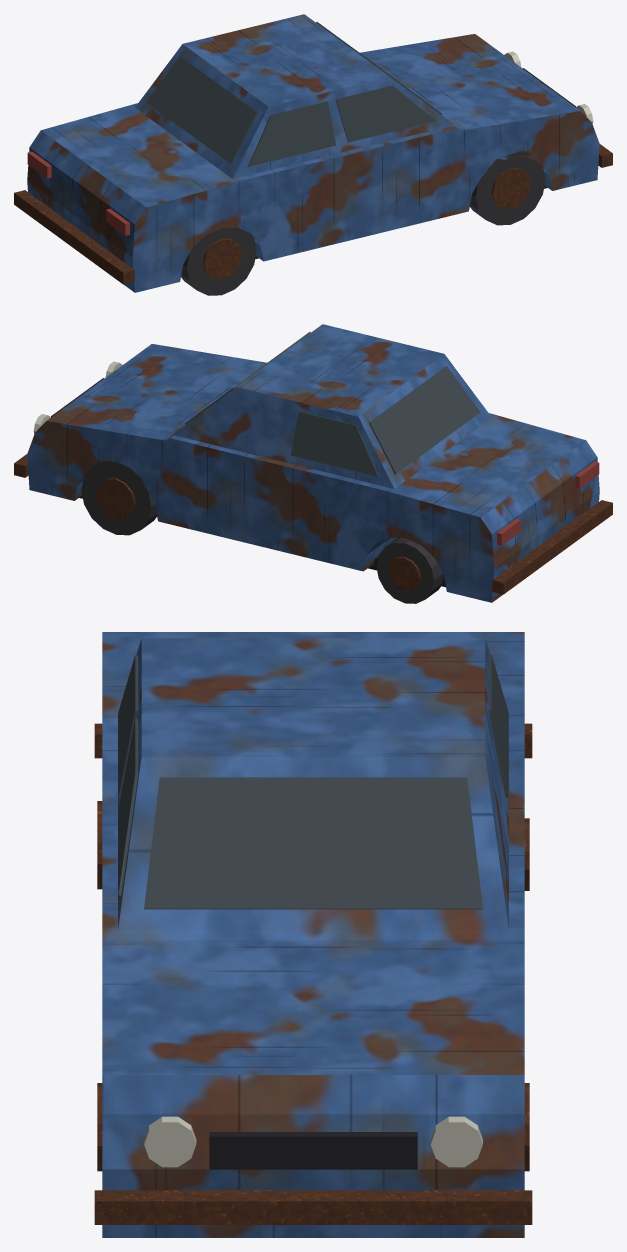
The model's file is car_sedan_blue.glb.
3 views of the same model, one above another, from view 1: azimuth 30°, elevation 25°; view 2: azimuth 150°, elevation 25°; view 3: azimuth 270°, elevation 25° (orthographic). The views are drawn at different scales.
Visible parts, largest first — view 1: car_sedan_blue; view 2: car_sedan_blue; view 3: car_sedan_blue.
Boxes of the visible parts, left/top/right/bottom form: car_sedan_blue: left=14, top=14, right=612, bottom=295; car_sedan_blue: left=14, top=324, right=612, bottom=603; car_sedan_blue: left=94, top=632, right=532, bottom=1237.
Size of the model in its own units: 4.34 by 1.42 by 1.68.
Materials: 7 (2 with a texture image).
